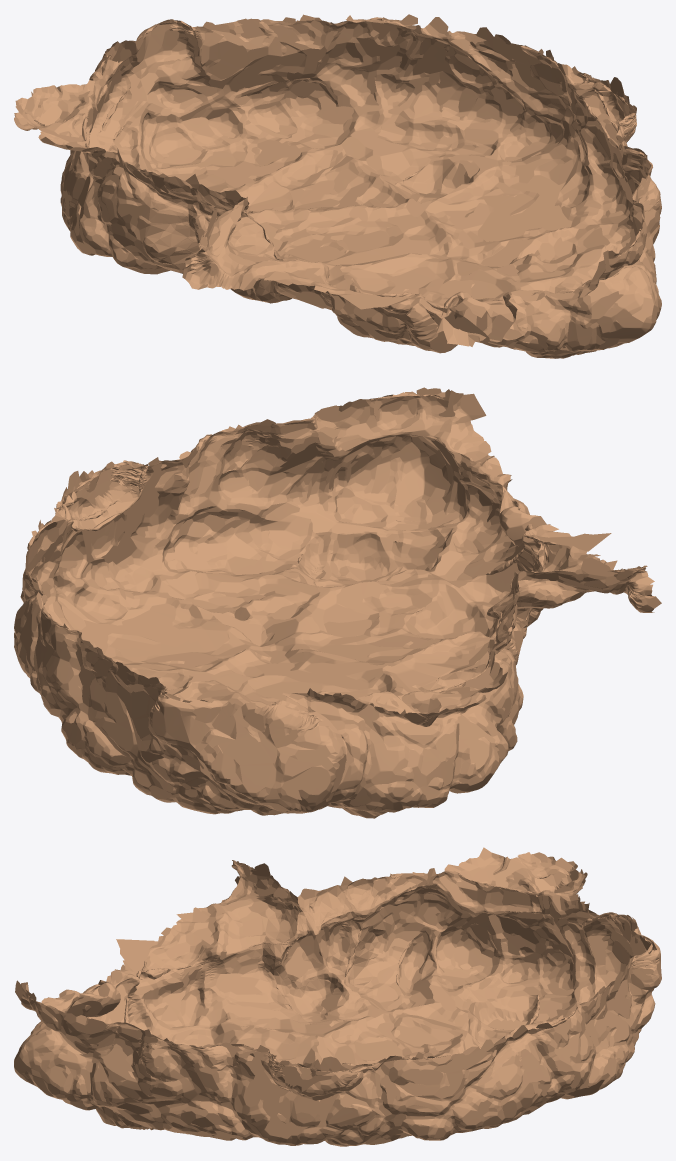
Rendered from SandstoneBig_Mesh_25LODs.fbx.
3 renders of one model, top to bottom at view 1: azimuth 30°, elevation 25°; view 2: azimuth 150°, elevation 25°; view 3: azimuth 270°, elevation 25°, orthographic. The views are drawn at different scales.
Visible parts, largest first — view 1: Mesh_25_LOD0; view 2: Mesh_25_LOD0; view 3: Mesh_25_LOD0.
Boxes of the visible parts, <box> form: Mesh_25_LOD0: <box>14,14,661,358</box>; Mesh_25_LOD0: <box>14,387,661,818</box>; Mesh_25_LOD0: <box>14,847,661,1146</box>.
Size of what is drawn, in the model's own units: 16550 by 4814 by 21068.
